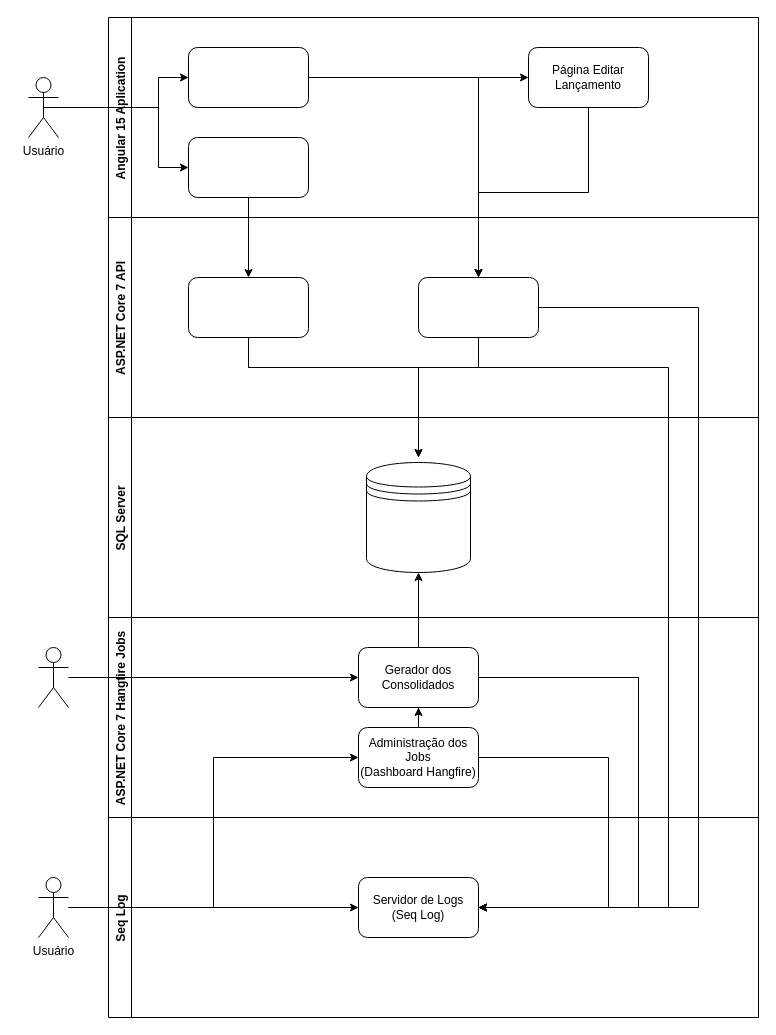
Image size: 776x1035. Some labels were removed from this diagram. Each missing label, with the centre of its shape:
"API /consolidated" belongs at point (248, 307).
"API /movements" belongs at point (478, 307).
"Banco de Dados CashFlow" belongs at point (418, 517).
"Página Listar Consolidados" belongs at point (248, 167).
"Página Listar Lançamentos" belongs at point (248, 77).
"Timer a Cada 1 Minuto" belongs at point (53, 677).
